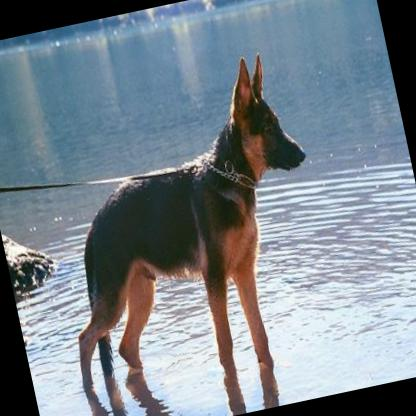German_shepherd: (20, 45, 351, 416)
